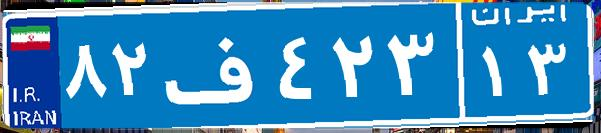1: (475, 38, 525, 113)
2: (330, 28, 385, 110), (110, 28, 158, 105)
3: (385, 28, 445, 110), (525, 38, 570, 115)
4: (273, 28, 330, 110)
8: (57, 26, 110, 107)
ف: (158, 15, 273, 115)
